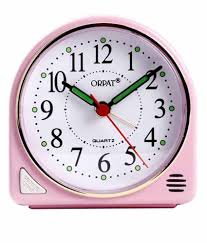alarm_clock: (12, 10, 198, 210)
